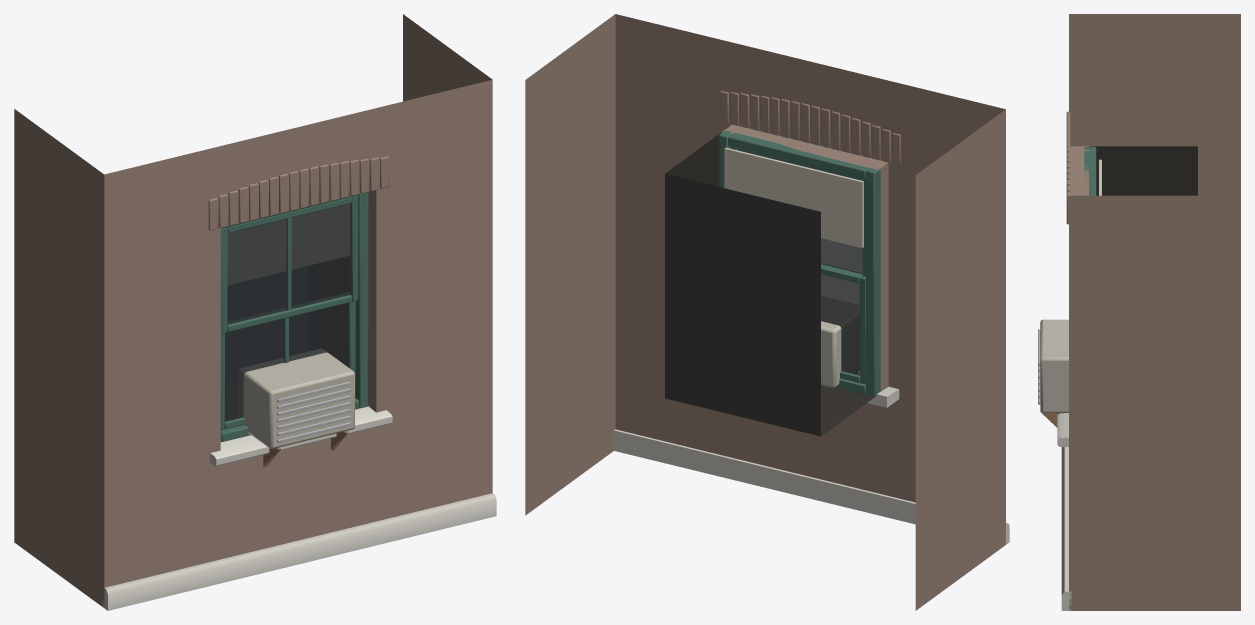
Rendered from upper_3b.glb.
3 renders of one model, left to right at view 1: azimuth 30°, elevation 25°; view 2: azimuth 150°, elevation 25°; view 3: azimuth 270°, elevation 25°, orthographic. The views are drawn at different scales.
Visible parts, largest first — view 1: upper_3b; view 2: upper_3b; view 3: upper_3b.
Part boxes in pixels (box(x1,y1,x2,y2)): upper_3b: box(14, 14, 496, 610); upper_3b: box(525, 14, 1009, 610); upper_3b: box(1038, 14, 1240, 610).
Bounding box in the file's own units: 3 × 3.2 × 1.42.
